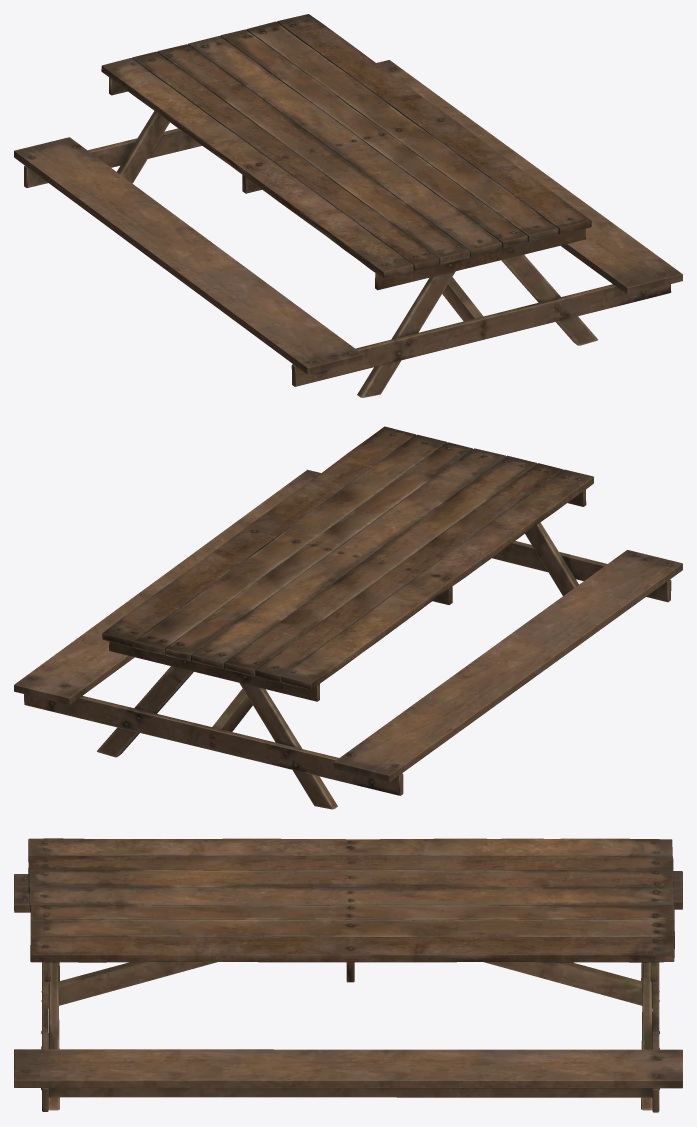
The model's file is picnic_table.glb.
The picture shows the model from 3 angles, top to bottom: view 1: azimuth 30°, elevation 25°; view 2: azimuth 150°, elevation 25°; view 3: azimuth 270°, elevation 25°; orthographic projection. The views are drawn at different scales.
Visible parts, largest first — view 1: wooden_picnic_table; view 2: wooden_picnic_table; view 3: wooden_picnic_table.
Boxes of the visible parts, x1,y1,x2,y2 form: wooden_picnic_table: [14, 14, 682, 397]; wooden_picnic_table: [14, 426, 682, 809]; wooden_picnic_table: [14, 838, 682, 1112].
Size of the model in its own units: 2.24 by 0.746 by 3.02.
Materials: 2 (2 with a texture image).
